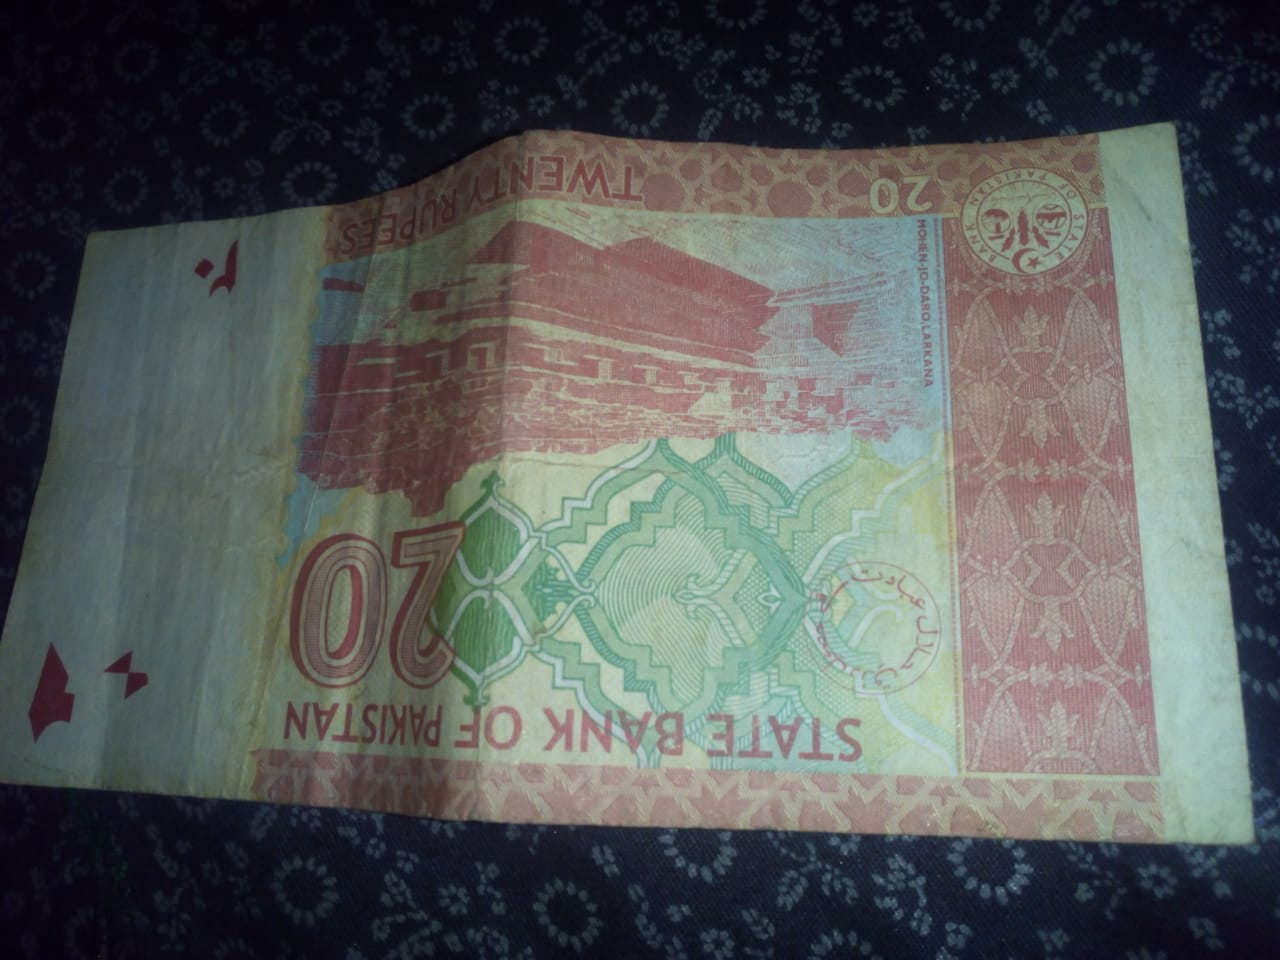20 rupee: (9, 135, 1257, 895)
